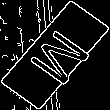M_SE: (18, 21, 92, 89)
